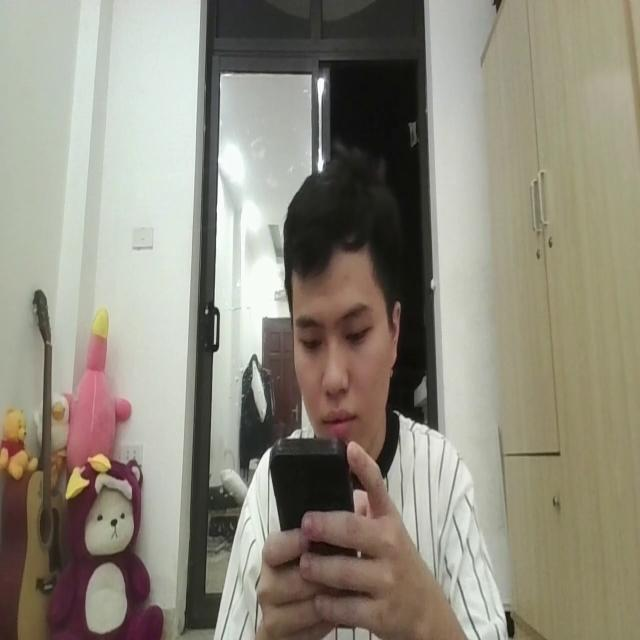phone: (268, 429, 360, 600)
student: (218, 143, 505, 640)
